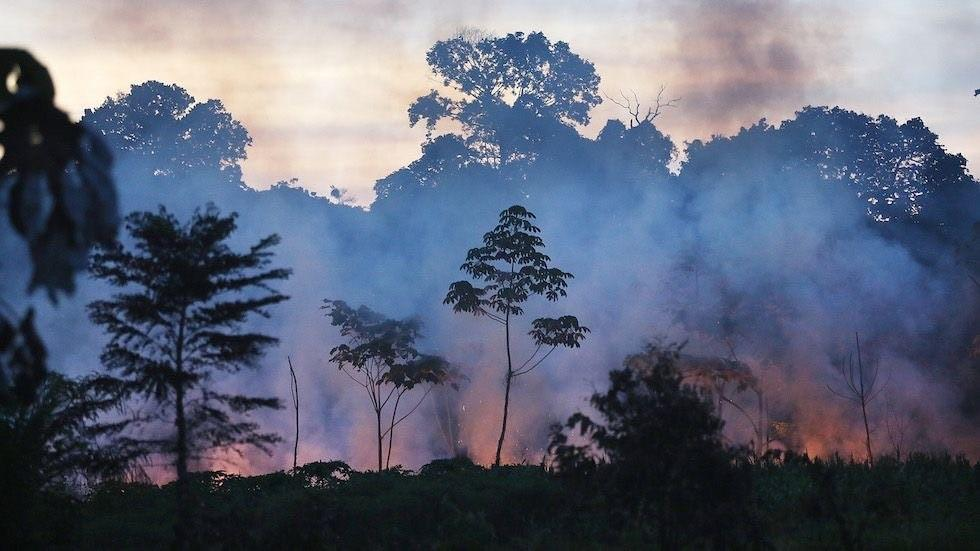fire: (789, 435, 877, 474)
smoke: (426, 188, 927, 451), (655, 2, 827, 172)
